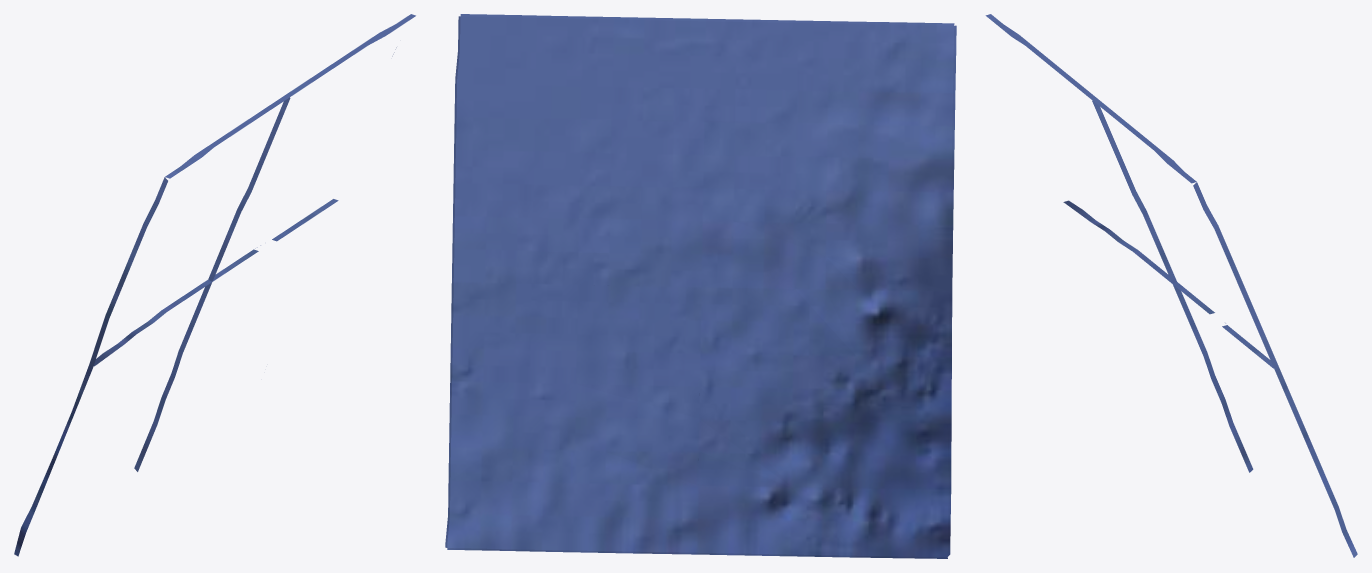
3 renders of one model, left to right at view 1: azimuth 30°, elevation 25°; view 2: azimuth 150°, elevation 25°; view 3: azimuth 270°, elevation 25°, orthographic. The views are drawn at different scales.
Bounding box in the file's own units: 156783 × 147514 × 120898.
Materials: 1 (1 with a texture image).
